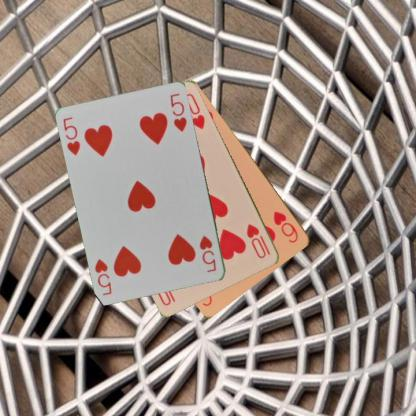10h: (244, 221, 272, 260)
5h: (61, 115, 82, 158), (197, 233, 218, 274)
6h: (271, 209, 300, 244)
